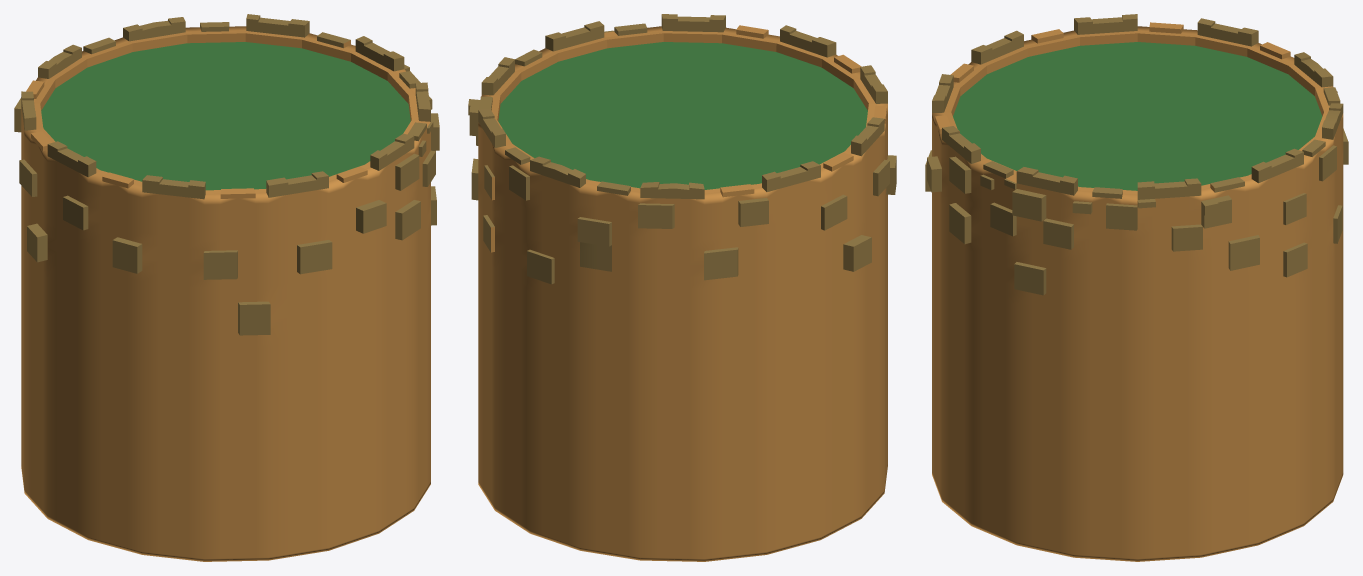
File: island_raw.fbx
3 renders of one model, left to right at view 1: azimuth 30°, elevation 25°; view 2: azimuth 150°, elevation 25°; view 3: azimuth 270°, elevation 25°, orthographic.
Visible parts, largest first — view 1: pCylinder2, pCylinder3; view 2: pCylinder2, pCylinder3; view 3: pCylinder2, pCylinder3.
Part boxes in pixels (box(x1,y1,x2,y2)): pCylinder2: box(14, 14, 439, 561); pCylinder3: box(41, 42, 410, 190); pCylinder2: box(468, 14, 896, 561); pCylinder3: box(498, 42, 867, 189); pCylinder2: box(925, 14, 1348, 561); pCylinder3: box(953, 42, 1322, 190).
Bounding box in the file's own units: 2201 × 2121 × 2164.
